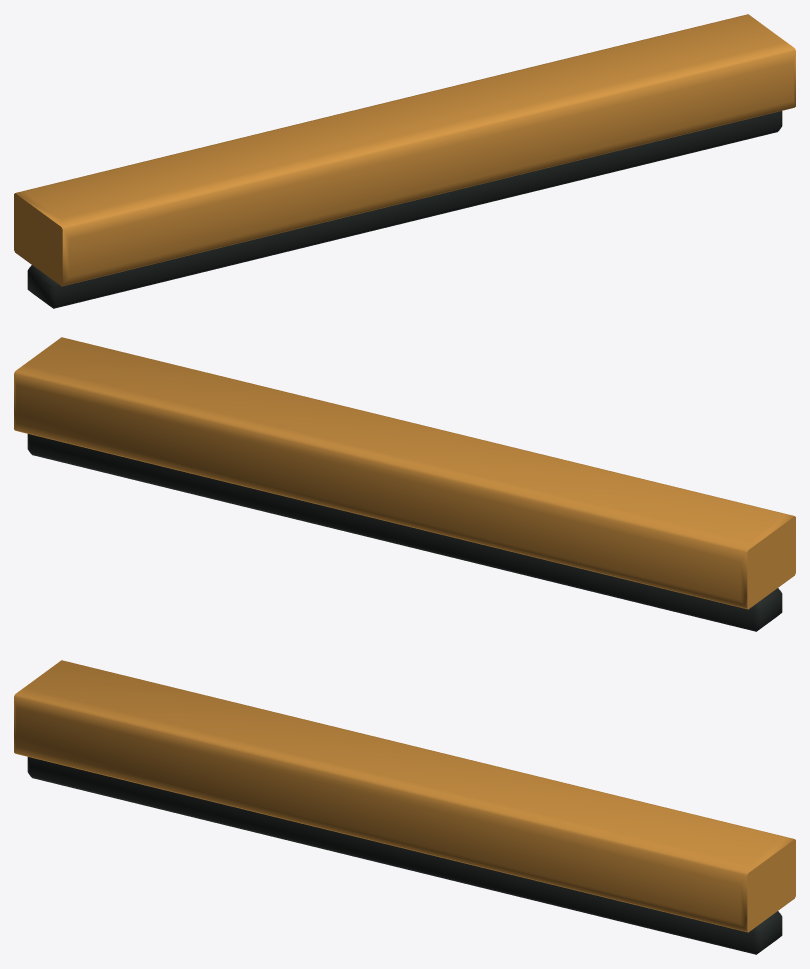
The model's file is net_edge.glb.
3 renders of one model, top to bottom at view 1: azimuth 30°, elevation 25°; view 2: azimuth 150°, elevation 25°; view 3: azimuth 330°, elevation 25°, orthographic.
Visible parts, largest first — view 1: Hardware; view 2: Hardware; view 3: Hardware.
Boxes of the visible parts, bbox=[...] form: Hardware: bbox=[14, 14, 795, 308]; Hardware: bbox=[14, 337, 795, 631]; Hardware: bbox=[14, 660, 795, 954].
Bounding box in the file's own units: 4 × 0.5 × 0.5.
